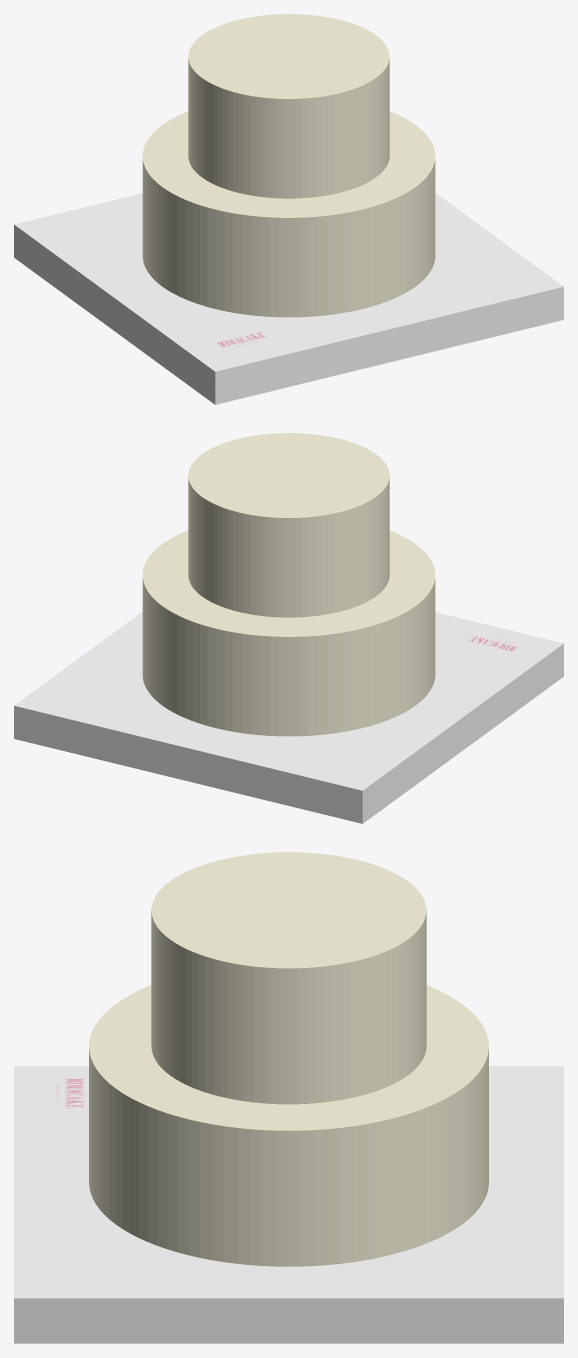
The model's file is cake_tier2_6-4_layers2_v33.glb.
3 renders of one model, top to bottom at view 1: azimuth 30°, elevation 25°; view 2: azimuth 150°, elevation 25°; view 3: azimuth 270°, elevation 25°, orthographic. The views are drawn at different scales.
Visible parts, largest first — view 1: Board, Tier0, Tier1, Logo; view 2: Board, Tier0, Tier1, Logo; view 3: Board, Tier0, Tier1, Logo.
Boxes of the visible parts, x1=… form: Board: x1=14, y1=193, x2=563, y2=404; Tier0: x1=142, y1=111, x2=435, y2=317; Tier1: x1=188, y1=14, x2=389, y2=198; Logo: x1=208, y1=328, x2=279, y2=353; Board: x1=14, y1=612, x2=563, y2=823; Tier0: x1=142, y1=530, x2=435, y2=736; Tier1: x1=188, y1=433, x2=389, y2=617; Logo: x1=459, y1=629, x2=530, y2=655; Board: x1=14, y1=1066, x2=563, y2=1343; Tier0: x1=89, y1=985, x2=488, y2=1266; Tier1: x1=151, y1=852, x2=426, y2=1104; Logo: x1=47, y1=1074, x2=88, y2=1111.
Bounding box in the file's own units: 0.22 × 0.14 × 0.22.
